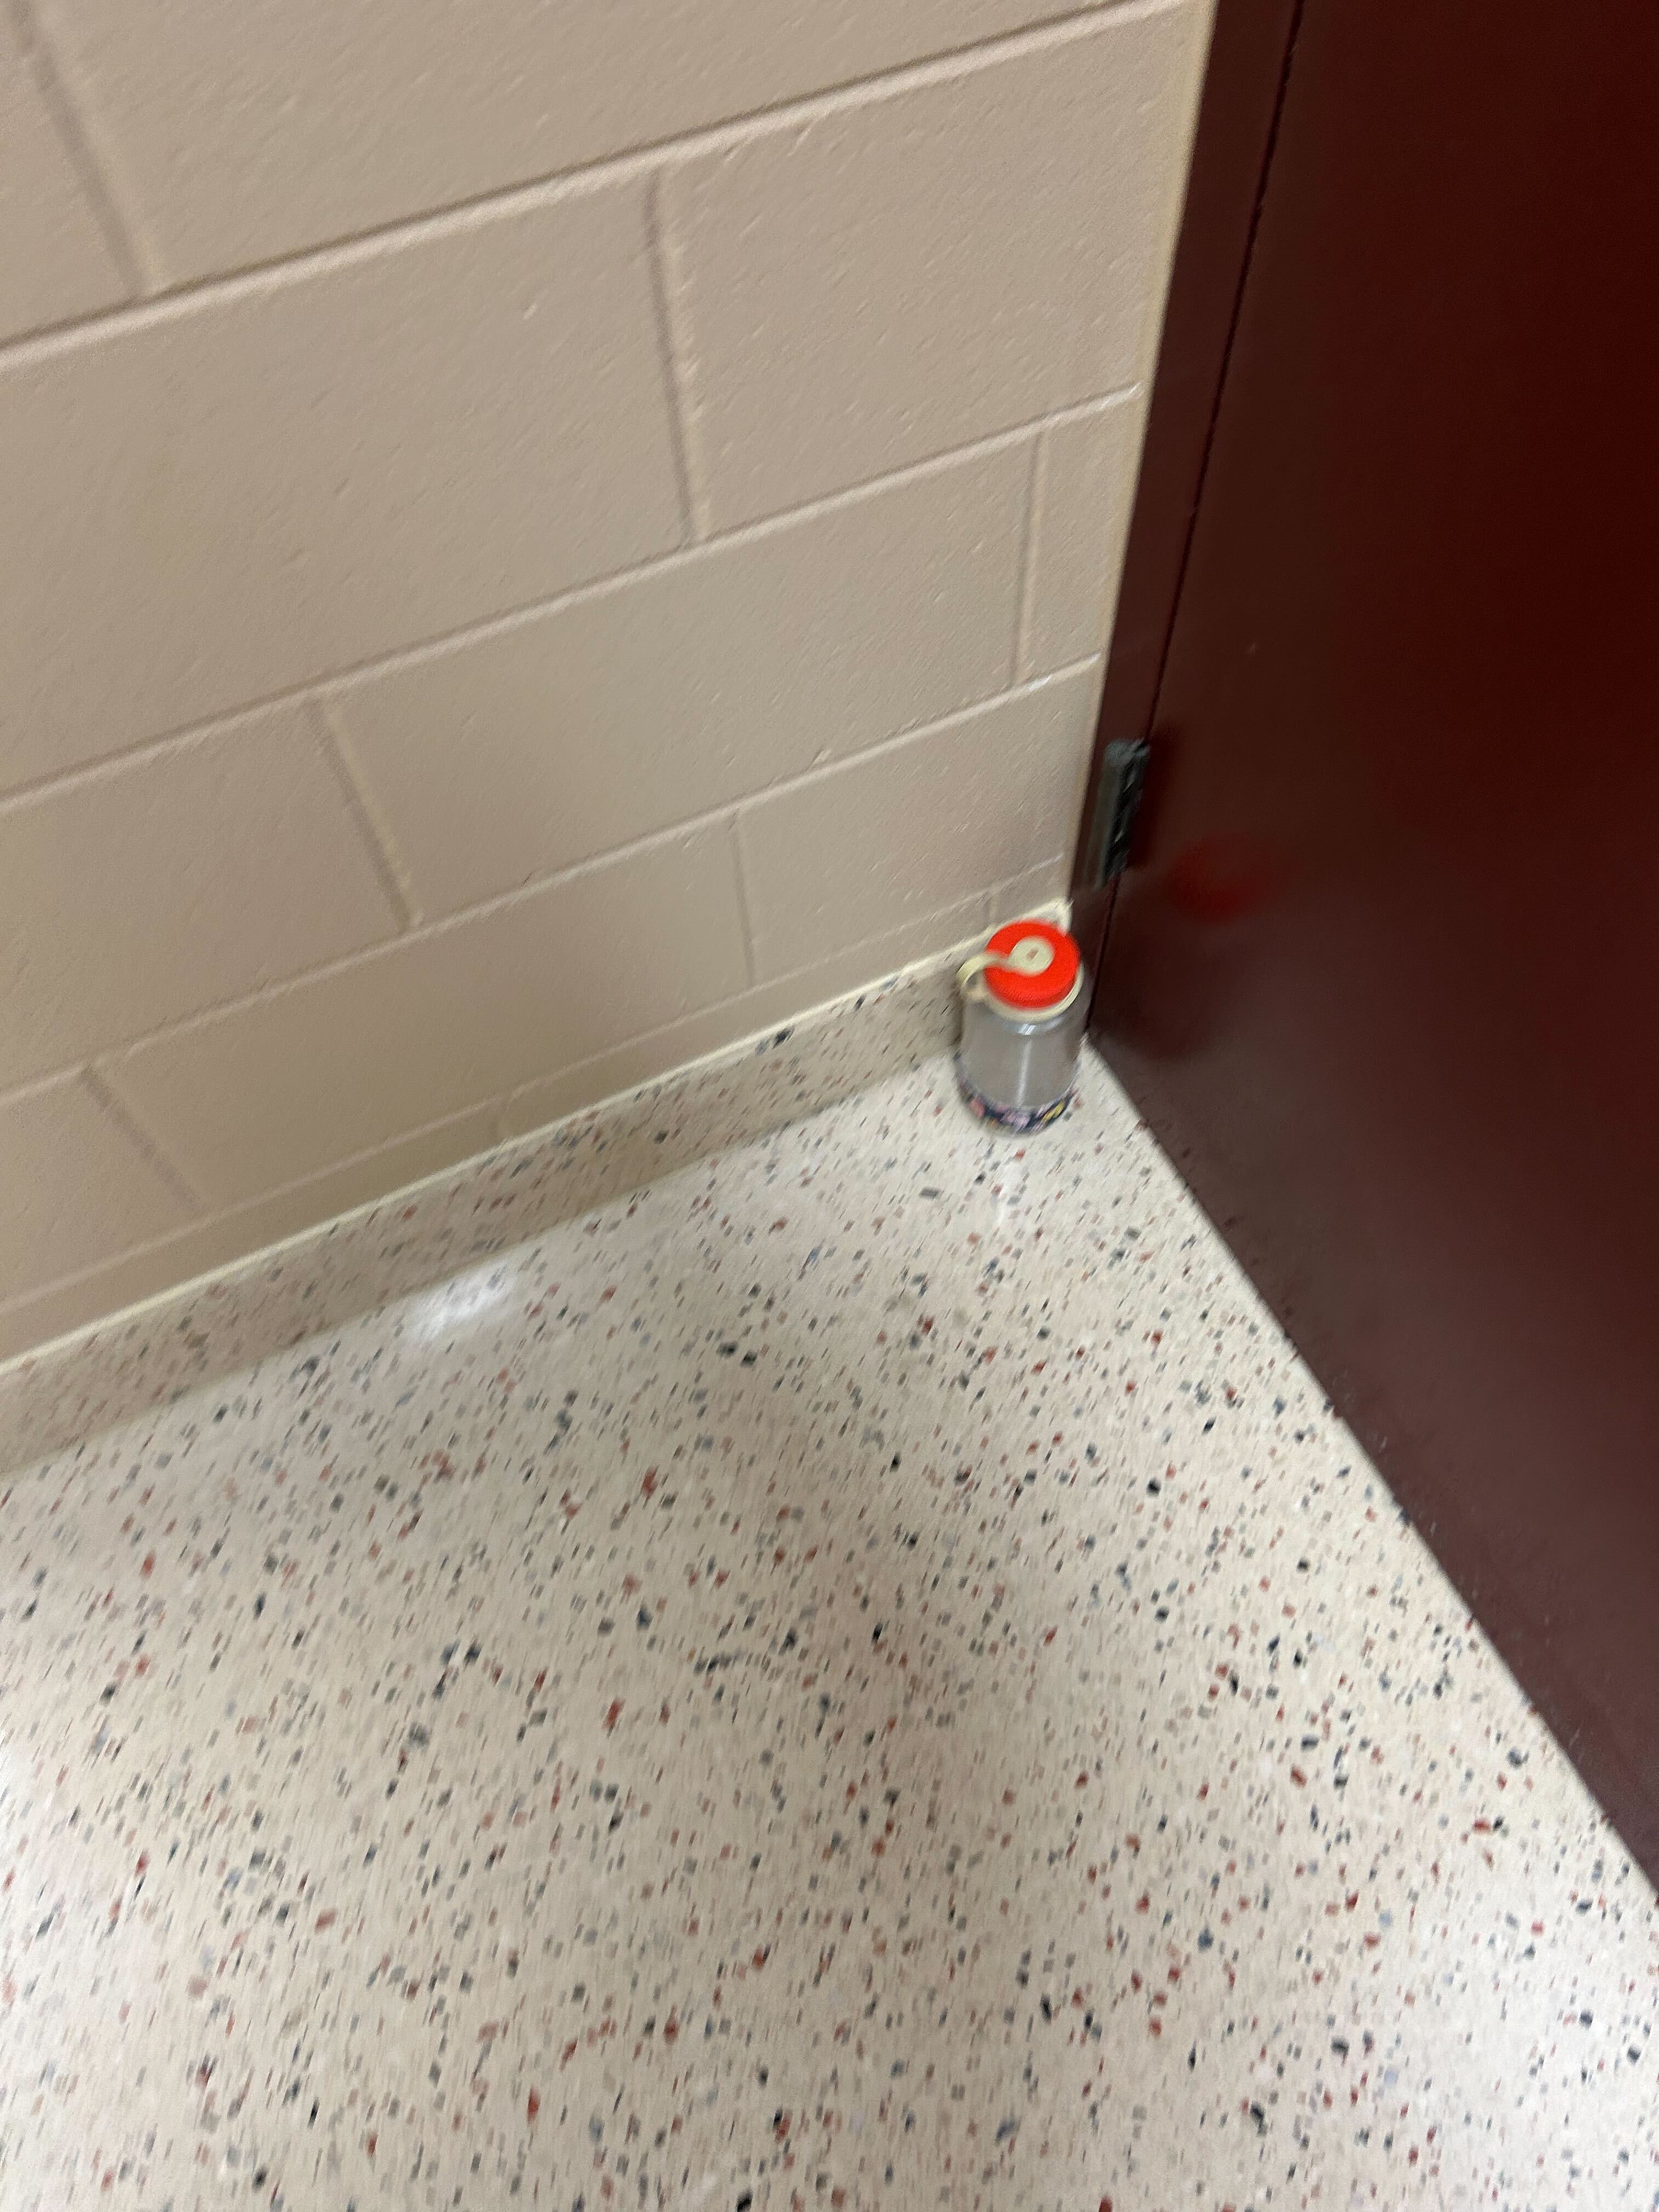bottle: (953, 909, 1094, 1150)
